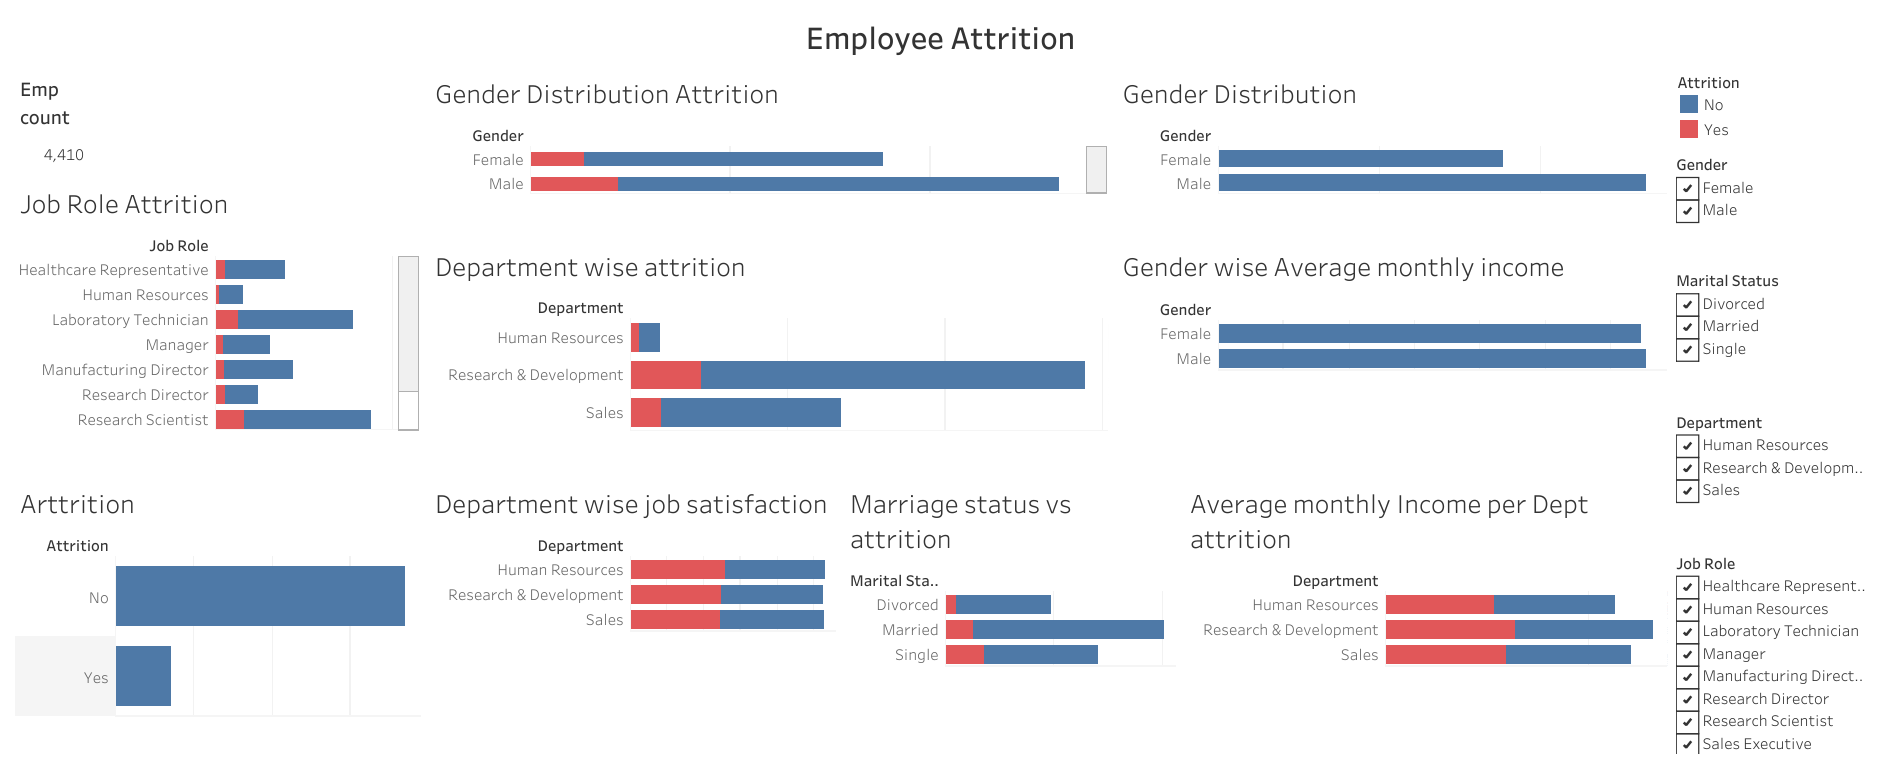

This screenshot's page, from the dashboard's own definition file:
{"tool":"tableau","page":{"name":"Employee Attrition","canvas":[1000,1000],"units":"permille","ordinal":0},"visuals":[{"type":"title","box":[4.8,10,990.3,61.2]},{"type":"worksheet","title":"Emp count","mark":"Automatic","box":[4.8,71.2,223.2,121.2]},{"type":"worksheet","title":"Gender Distribution Attrition","mark":"Automatic","rows":["Gender"],"cols":["EmployeeID"],"box":[228.1,71.2,369.9,229.7]},{"type":"worksheet","title":"Gender Distribution","mark":"Automatic","rows":["Gender"],"cols":["EmployeeID"],"box":[598,71.2,300.6,229.7]},{"type":"legend","title":"Gender Distribution Attrition","param":"[federated.0rpha6m0ub071f151aylh170z2df].[none:Attrition:nk]","box":[898.6,71.2,96.6,89.9]},{"type":"filter","title":"Average monthly Income per Dept attrition","param":"[federated.0rpha6m0ub071f151aylh170z2df].[none:Gender:nk]","box":[898.6,161.1,96.6,131.1]},{"type":"worksheet","title":"Job Role Attrition","mark":"Automatic","rows":["JobRole"],"cols":["EmployeeID"],"box":[4.8,192.4,223.2,420]},{"type":"filter","title":"Average monthly Income per Dept attrition","param":"[federated.0rpha6m0ub071f151aylh170z2df].[none:MaritalStatus:nk]","box":[898.6,292.2,96.6,159.8]},{"type":"worksheet","title":"Department wise attrition","mark":"Automatic","rows":["Department"],"cols":["EmployeeID"],"box":[228.1,300.9,369.9,311.6]},{"type":"worksheet","title":"Gender wise Average monthly income","mark":"Automatic","rows":["Gender"],"cols":["MonthlyIncome"],"box":[598,300.9,300.6,311.6]},{"type":"filter","title":"Average monthly Income per Dept attrition","param":"[federated.0rpha6m0ub071f151aylh170z2df].[none:Department:nk]","box":[898.6,451.9,96.6,159.8]},{"type":"filter","title":"Average monthly Income per Dept attrition","param":"[federated.0rpha6m0ub071f151aylh170z2df].[none:JobRole:nk]","box":[898.6,611.8,96.6,332.1]},{"type":"worksheet","title":"Arttrition","mark":"Automatic","rows":["Attrition"],"cols":["EmployeeID"],"box":[4.8,612.5,223.4,377.6]},{"type":"worksheet","title":"Department wise job satisfaction","mark":"Automatic","rows":["Department"],"cols":["JobSatisfaction"],"box":[228.2,612.5,223.5,377.6]},{"type":"worksheet","title":"Marriage status vs attrition","mark":"Automatic","rows":["MaritalStatus"],"cols":["EmployeeID"],"box":[451.7,612.5,182.5,377.6]},{"type":"worksheet","title":"Average monthly Income per Dept attrition","mark":"Automatic","rows":["Department"],"cols":["MonthlyIncome"],"box":[634.2,612.5,264.4,377.6]}]}

Visuals, with their boxes on the dashboard's canvas, which has no fixed pixel size, in thousandths of its width and height (x1, y1, x2, y2). These are canvas units, not pixel positions in the 1880x768 screenshot, which may show the page scaled, cropped or inside an application window:
title: [5,10,995,71]
"Emp count" worksheet: [5,71,228,192]
"Gender Distribution Attrition" worksheet: [228,71,598,301]
"Gender Distribution" worksheet: [598,71,899,301]
"Gender Distribution Attrition" legend: [899,71,995,161]
"Average monthly Income per Dept attrition" filter: [899,161,995,292]
"Job Role Attrition" worksheet: [5,192,228,612]
"Average monthly Income per Dept attrition" filter: [899,292,995,452]
"Department wise attrition" worksheet: [228,301,598,612]
"Gender wise Average monthly income" worksheet: [598,301,899,612]
"Average monthly Income per Dept attrition" filter: [899,452,995,612]
"Average monthly Income per Dept attrition" filter: [899,612,995,944]
"Arttrition" worksheet: [5,612,228,990]
"Department wise job satisfaction" worksheet: [228,612,452,990]
"Marriage status vs attrition" worksheet: [452,612,634,990]
"Average monthly Income per Dept attrition" worksheet: [634,612,899,990]
